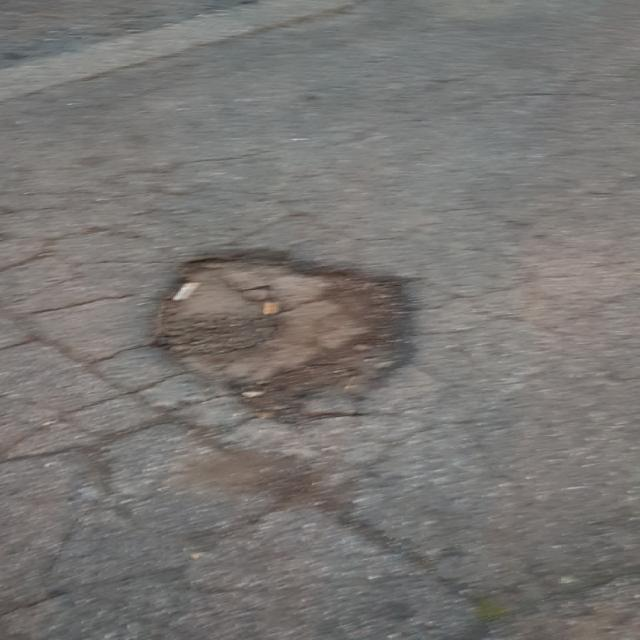Pothole: (138, 247, 426, 429)
